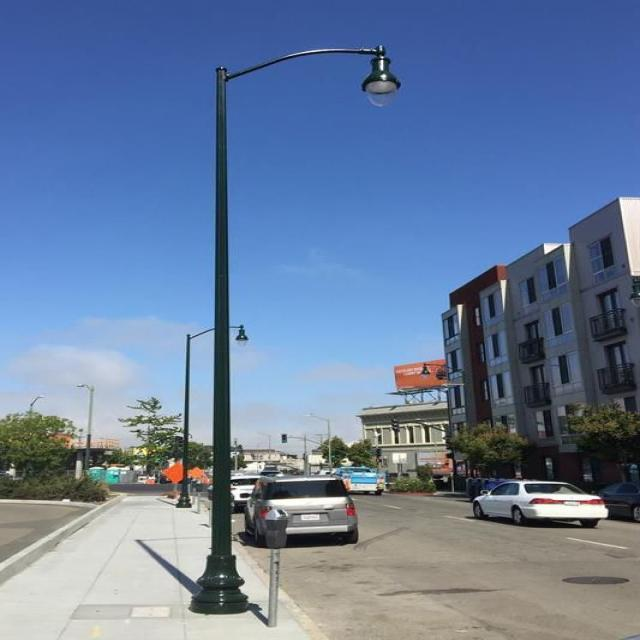off: (326, 22, 430, 121), (226, 316, 266, 356)
